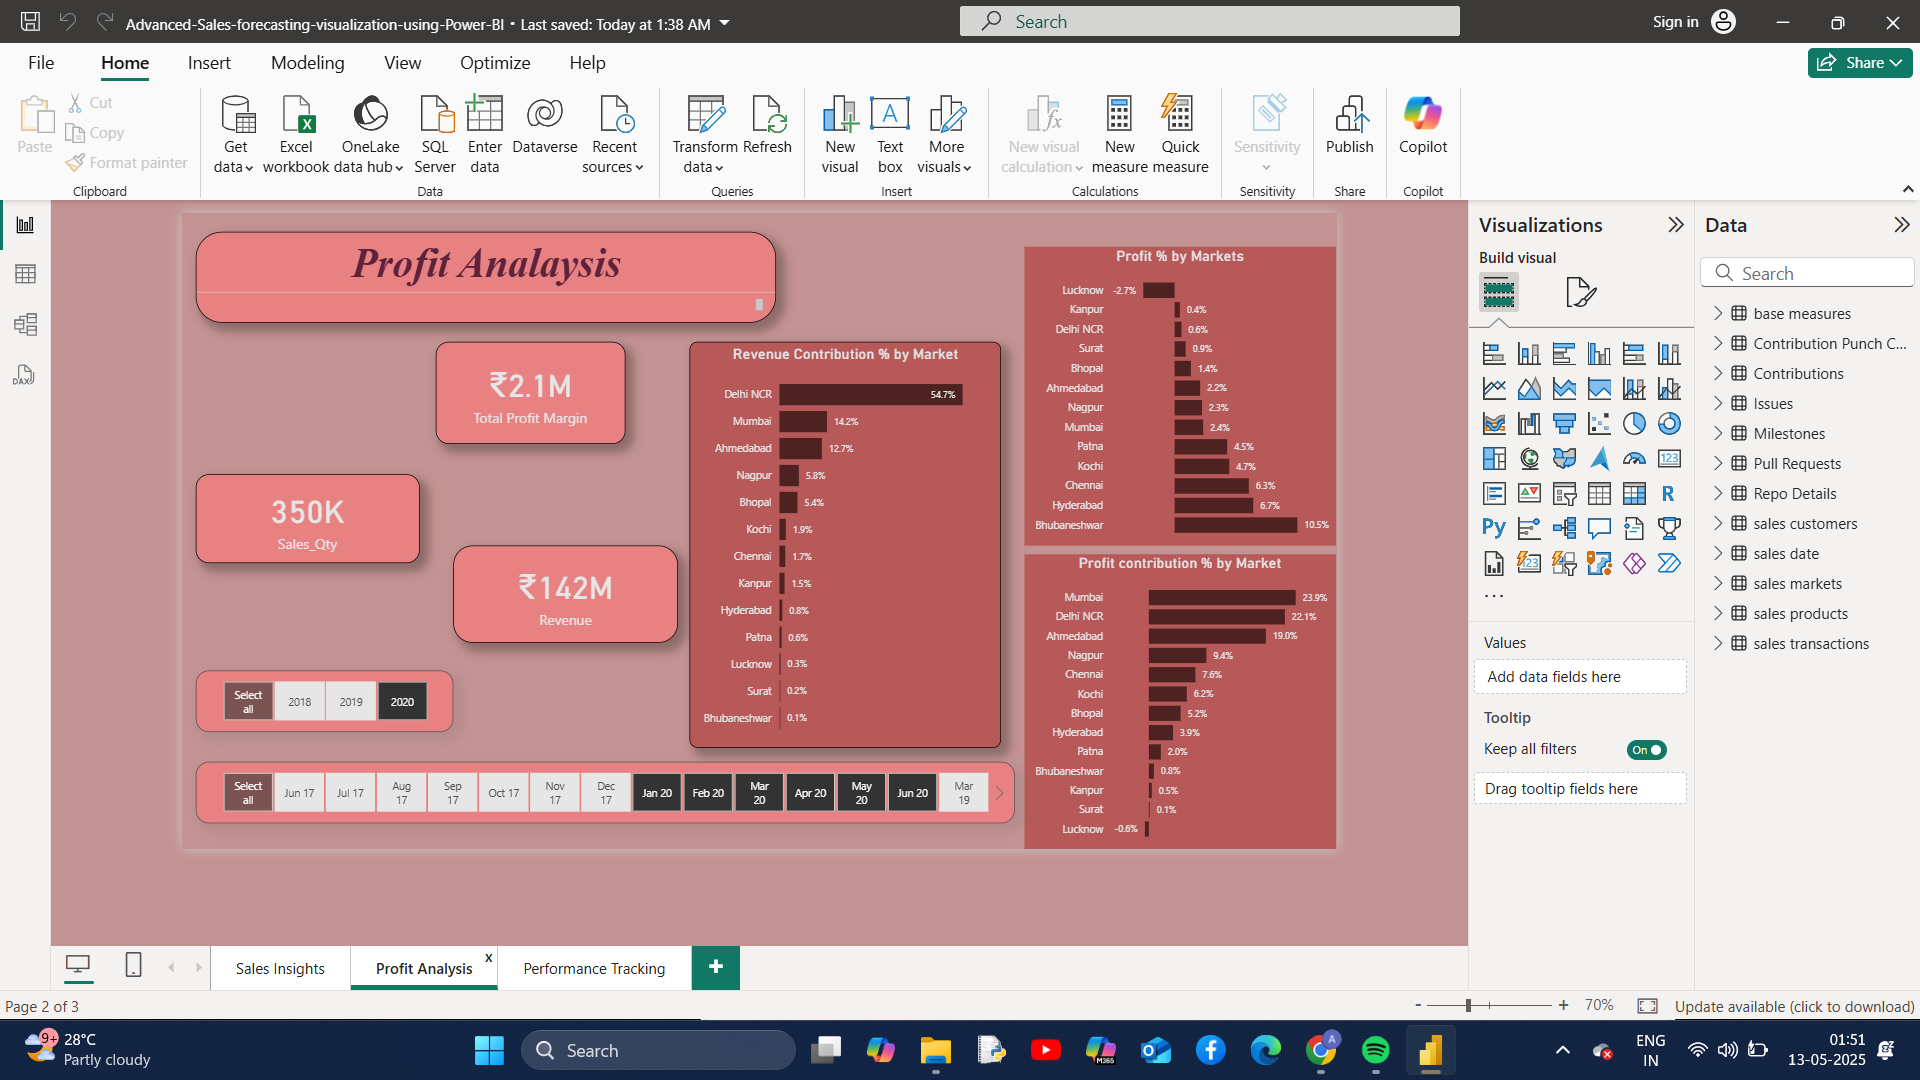

Layout of this report page (visuals, bound fields, positions):
{"tool":"powerbi","page":{"name":"Profit Analysis","canvas":[1319,727],"ordinal":1},"visuals":[{"type":"card","fields":{"Values":["base measures.revenue"]},"box":[310,380,257.1,111.4],"z":4000},{"type":"card","fields":{"Values":["base measures.sales_qty"]},"box":[15.7,298.6,255.7,101.4],"z":5000},{"type":"textbox","title":"Profit Analaysis","box":[15.7,21.4,662.9,104.3],"z":6000},{"type":"card","fields":{"Values":["base measures.Total Profit Margin"]},"box":[290,147.1,217.1,117.1],"z":7000},{"type":"barChart","title":"Revenue Contribution % by Market","fields":{"Category":["sales markets.markets_name"],"Y":["base measures.Revenue Contribution %"]},"box":[580,147.1,355.7,464.3],"z":8000},{"type":"barChart","title":"Profit contribution % by Market","fields":{"Category":["sales markets.markets_name"],"Y":["base measures.Profit Margin Contribution %"]},"box":[962.9,390,355.7,337.1],"z":9000},{"type":"barChart","title":"Profit % by Markets","fields":{"Category":["sales markets.markets_name"],"Y":["base measures.Profit Margin %"]},"box":[962.9,38.6,355.7,341.4],"z":10000},{"type":"slicer","fields":{"Values":["sales date.year"]},"box":[15.7,522.9,294.3,70],"z":11000},{"type":"slicer","fields":{"Values":["sales date.cy_date"]},"box":[15.7,627.1,935.7,70],"z":12000}]}

Visuals, with their boxes on the page's 1319x727 design canvas (x1, y1, x2, y2). These are canvas units, not pixel positions in the 1920x1080 screenshot, which may show the page scaled, cropped or inside an application window:
card - base measures.revenue: 310, 380, 567, 491
card - base measures.sales_qty: 16, 299, 271, 400
"Profit Analaysis" textbox: 16, 21, 679, 126
card - base measures.Total Profit Margin: 290, 147, 507, 264
"Revenue Contribution % by Market" barChart: 580, 147, 936, 611
"Profit contribution % by Market" barChart: 963, 390, 1319, 727
"Profit % by Markets" barChart: 963, 39, 1319, 380
slicer - sales date.year: 16, 523, 310, 593
slicer - sales date.cy_date: 16, 627, 951, 697
